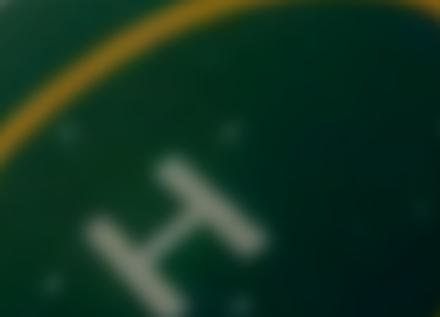Apron: (1, 2, 440, 316)
